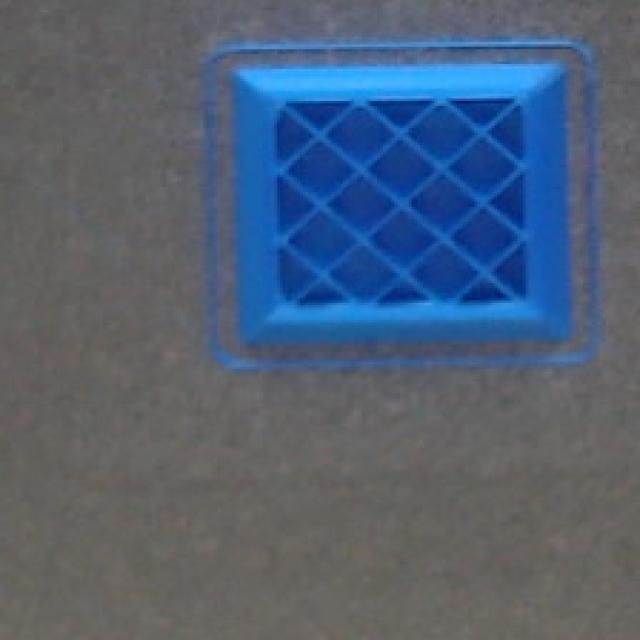noMistake: (194, 39, 606, 382)
